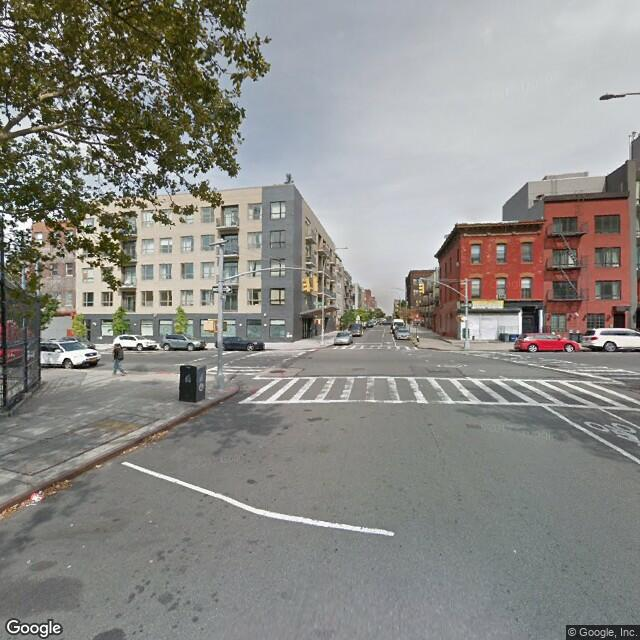litter: (25, 486, 48, 504)
